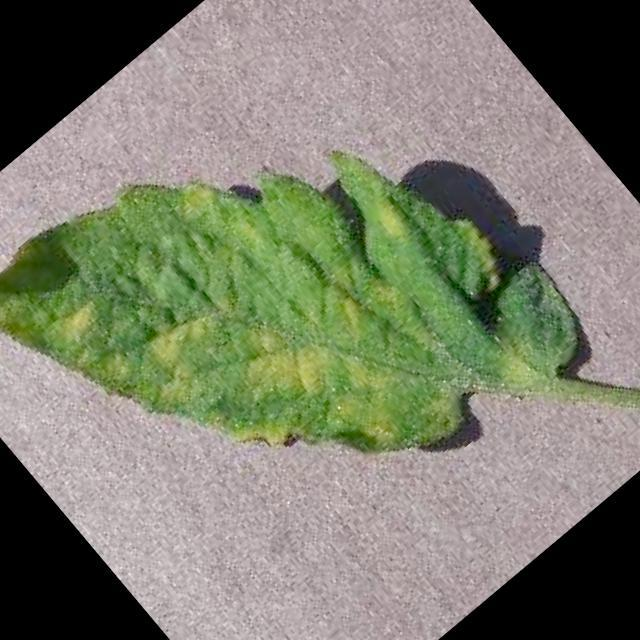Tomato mold leaf: (0, 0, 597, 640)
